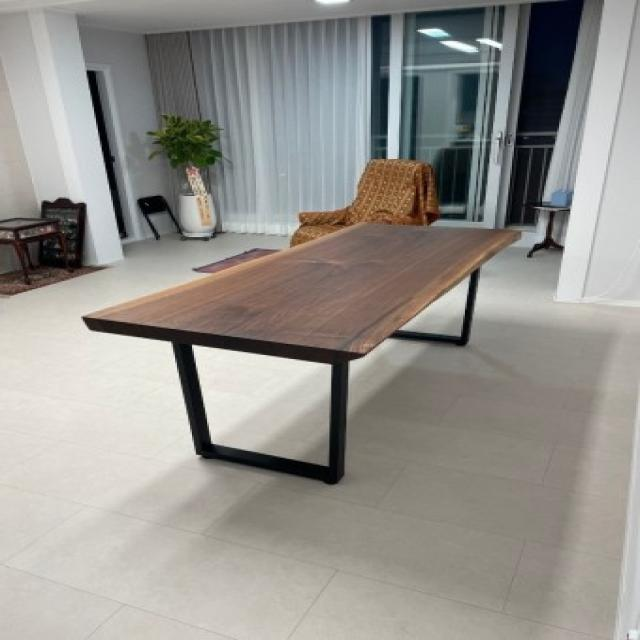Chair: (282, 156, 441, 235)
Table: (89, 223, 519, 490)
window: (156, 26, 565, 200)
